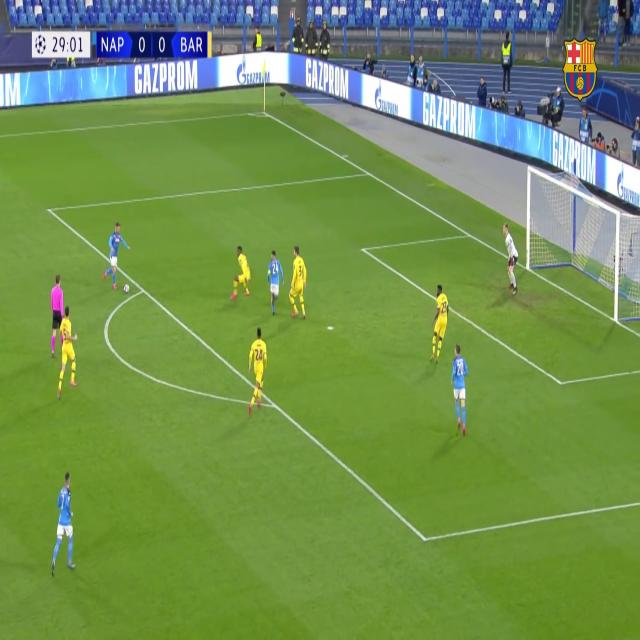ball: (121, 278, 130, 294)
team1: (50, 472, 75, 578), (106, 222, 132, 284), (452, 346, 469, 437), (266, 250, 283, 316)
team2: (57, 306, 80, 396), (247, 328, 267, 415), (430, 284, 450, 363), (289, 247, 309, 320), (234, 246, 251, 302)
